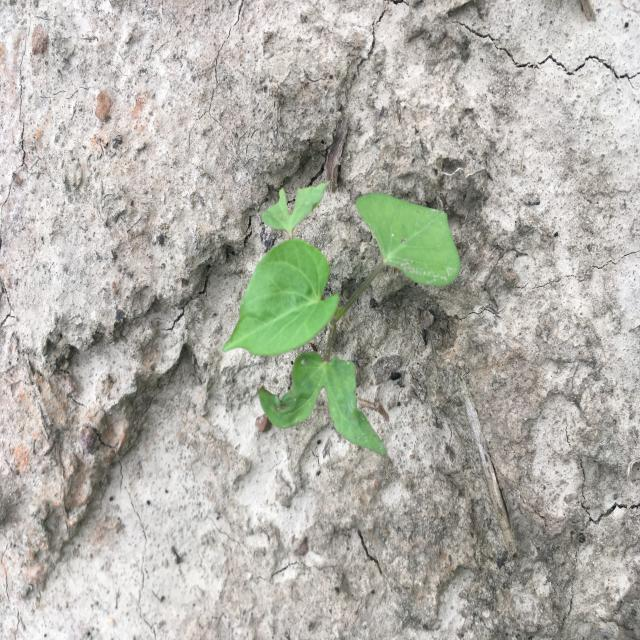MorningGlory: (222, 181, 461, 456)
